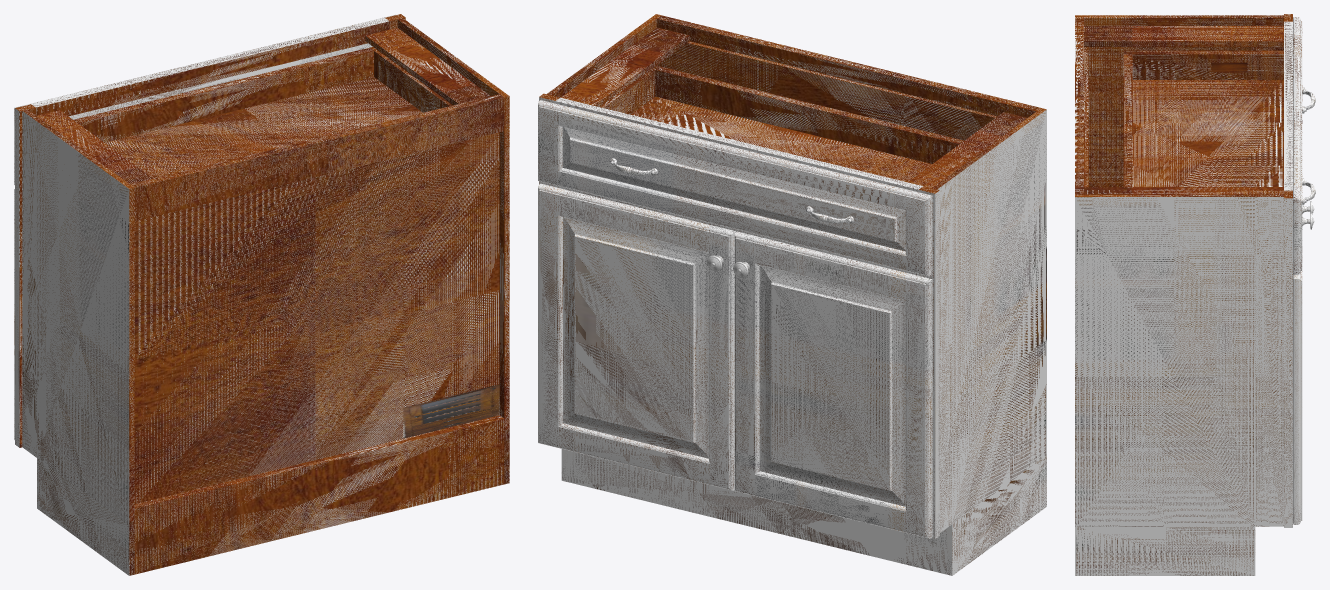
3 views of the same model, side by side, from view 1: azimuth 30°, elevation 25°; view 2: azimuth 150°, elevation 25°; view 3: azimuth 270°, elevation 25° (orthographic). The views are drawn at different scales.
Parts seen in each view (by area): view 1: mesh5_mesh5-geometry, mesh8_mesh8-geometry, mesh13_mesh13-geometry, mesh4_mesh4-geometry, mesh20_mesh20-geometry, mesh18_mesh18-geometry, mesh6_mesh6-geometry, mesh7_mesh7-geometry, mesh9_mesh9-geometry, mesh11_mesh11-geometry, mesh15_mesh15-geometry, mesh57_mesh57-geometry (+4 smaller); view 2: mesh8_mesh8-geometry, mesh55_mesh55-geometry, mesh44_mesh44-geometry, mesh14_mesh14-geometry, mesh26_mesh26-geometry, mesh5_mesh5-geometry, mesh18_mesh18-geometry, mesh27_mesh27-geometry, mesh53_mesh53-geometry, mesh42_mesh42-geometry, mesh4_mesh4-geometry, mesh20_mesh20-geometry (+29 smaller); view 3: mesh11_mesh11-geometry, mesh20_mesh20-geometry, mesh10_mesh10-geometry, mesh12_mesh12-geometry, mesh8_mesh8-geometry, mesh17_mesh17-geometry, mesh16_mesh16-geometry, mesh3_mesh3-geometry, mesh41_mesh41-geometry, mesh15_mesh15-geometry, mesh4_mesh4-geometry, mesh6_mesh6-geometry (+9 smaller).
Boxes of the visible parts, x1=… form: mesh5_mesh5-geometry: x1=134, y1=132, x2=499, y2=503; mesh8_mesh8-geometry: x1=37, y1=120, x2=134, y2=525; mesh13_mesh13-geometry: x1=134, y1=415, x2=504, y2=574; mesh4_mesh4-geometry: x1=130, y1=94, x2=504, y2=220; mesh20_mesh20-geometry: x1=105, y1=77, x2=422, y2=178; mesh18_mesh18-geometry: x1=74, y1=47, x2=373, y2=142; mesh6_mesh6-geometry: x1=31, y1=18, x2=389, y2=116; mesh7_mesh7-geometry: x1=22, y1=109, x2=41, y2=457; mesh9_mesh9-geometry: x1=37, y1=458, x2=134, y2=575; mesh11_mesh11-geometry: x1=412, y1=29, x2=509, y2=433; mesh15_mesh15-geometry: x1=365, y1=28, x2=490, y2=105; mesh57_mesh57-geometry: x1=403, y1=384, x2=499, y2=438; mesh8_mesh8-geometry: x1=947, y1=108, x2=1046, y2=523; mesh55_mesh55-geometry: x1=772, y1=286, x2=888, y2=488; mesh44_mesh44-geometry: x1=576, y1=238, x2=691, y2=440; mesh14_mesh14-geometry: x1=567, y1=450, x2=946, y2=574; mesh26_mesh26-geometry: x1=572, y1=109, x2=896, y2=219; mesh5_mesh5-geometry: x1=657, y1=41, x2=997, y2=140; mesh18_mesh18-geometry: x1=655, y1=66, x2=963, y2=163; mesh27_mesh27-geometry: x1=572, y1=161, x2=894, y2=267; mesh53_mesh53-geometry: x1=888, y1=314, x2=932, y2=497; mesh42_mesh42-geometry: x1=692, y1=266, x2=734, y2=449; mesh4_mesh4-geometry: x1=656, y1=15, x2=1040, y2=117; mesh20_mesh20-geometry: x1=631, y1=96, x2=931, y2=182; mesh11_mesh11-geometry: x1=1075, y1=194, x2=1255, y2=526; mesh20_mesh20-geometry: x1=1132, y1=80, x2=1283, y2=187; mesh10_mesh10-geometry: x1=1255, y1=194, x2=1283, y2=526; mesh12_mesh12-geometry: x1=1075, y1=526, x2=1255, y2=575; mesh8_mesh8-geometry: x1=1075, y1=15, x2=1255, y2=187; mesh17_mesh17-geometry: x1=1123, y1=50, x2=1283, y2=79; mesh16_mesh16-geometry: x1=1084, y1=26, x2=1283, y2=46; mesh3_mesh3-geometry: x1=1284, y1=14, x2=1292, y2=527; mesh41_mesh41-geometry: x1=1293, y1=317, x2=1302, y2=484; mesh15_mesh15-geometry: x1=1084, y1=187, x2=1283, y2=194; mesh4_mesh4-geometry: x1=1075, y1=18, x2=1083, y2=194; mesh6_mesh6-geometry: x1=1284, y1=21, x2=1292, y2=190.
Size of the model in its own units: 0.6706 by 0.6427 by 0.3704.
